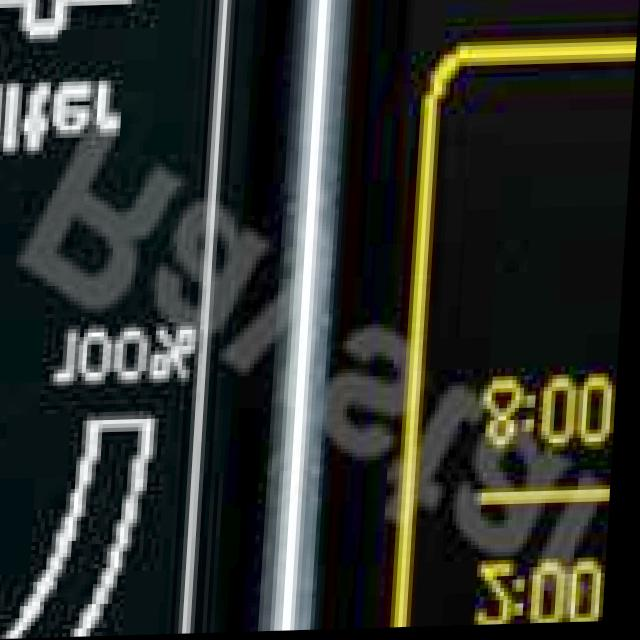display: (310, 0, 640, 632), (0, 0, 312, 640)
